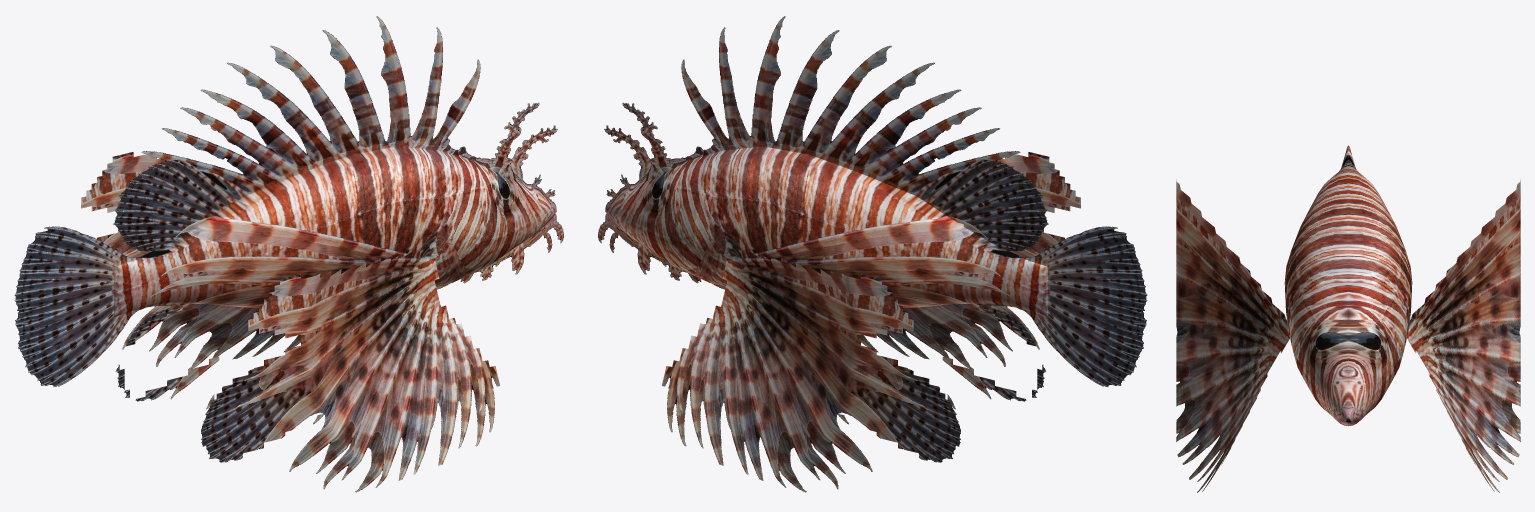
Rendered from lionfish.glb.
3 views of the same model, side by side, from view 1: azimuth 30°, elevation 25°; view 2: azimuth 150°, elevation 25°; view 3: azimuth 270°, elevation 25° (orthographic). The views are drawn at different scales.
Parts seen in each view (by area): view 1: Pterois volitans; view 2: Pterois volitans; view 3: Pterois volitans.
Part boxes in pixels (x1,y1,x2,y2): Pterois volitans: (14,16,563,492); Pterois volitans: (598,16,1147,492); Pterois volitans: (1176,145,1520,492).
Size of the model in its own units: 0.3968 by 0.2721 by 0.208.
1 material, 1 textured.
